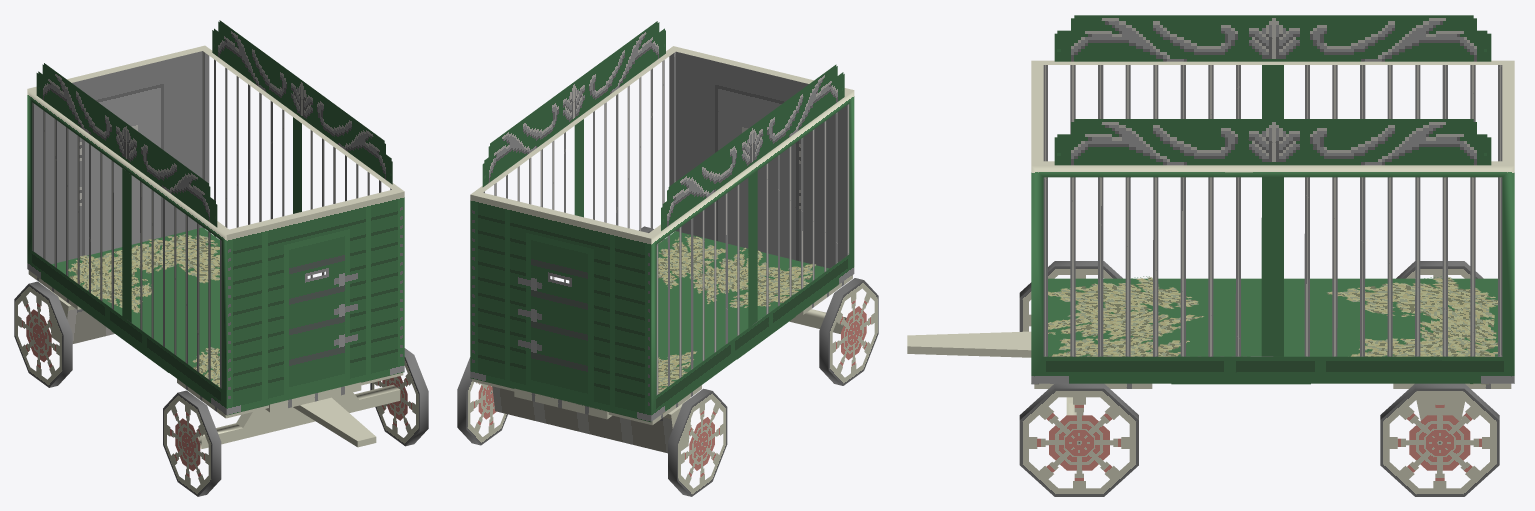
File: 04a0_Cage.glb
3 renders of one model, left to right at view 1: azimuth 30°, elevation 25°; view 2: azimuth 150°, elevation 25°; view 3: azimuth 270°, elevation 25°, orthographic. The views are drawn at different scales.
Visible parts, largest first — view 1: part_0; view 2: part_0; view 3: part_0.
Boxes of the visible parts, x1=… form: part_0: x1=14, y1=20, x2=428, y2=496; part_0: x1=457, y1=21, x2=878, y2=496; part_0: x1=907, y1=15, x2=1514, y2=496.
Bounding box in the file's own units: 2.68 × 3.58 × 5.43.
1 material, 1 textured.
